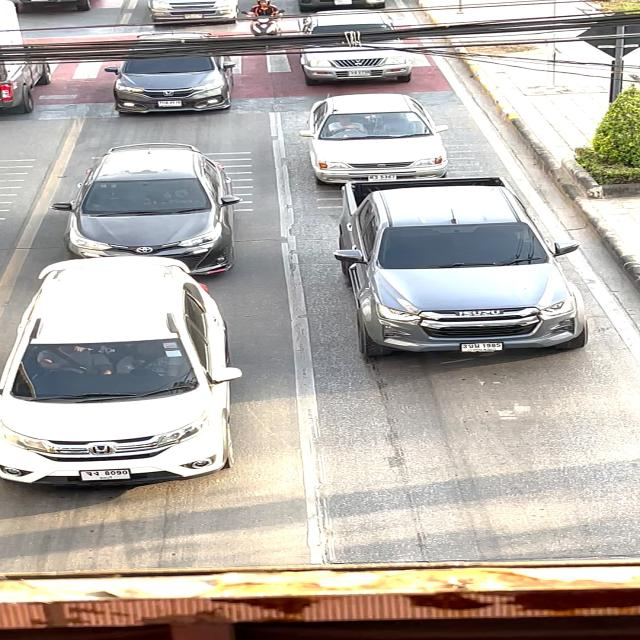car: (0, 259, 239, 495), (326, 164, 596, 366), (66, 140, 246, 268), (291, 86, 452, 192), (90, 36, 236, 111), (282, 9, 416, 87)
